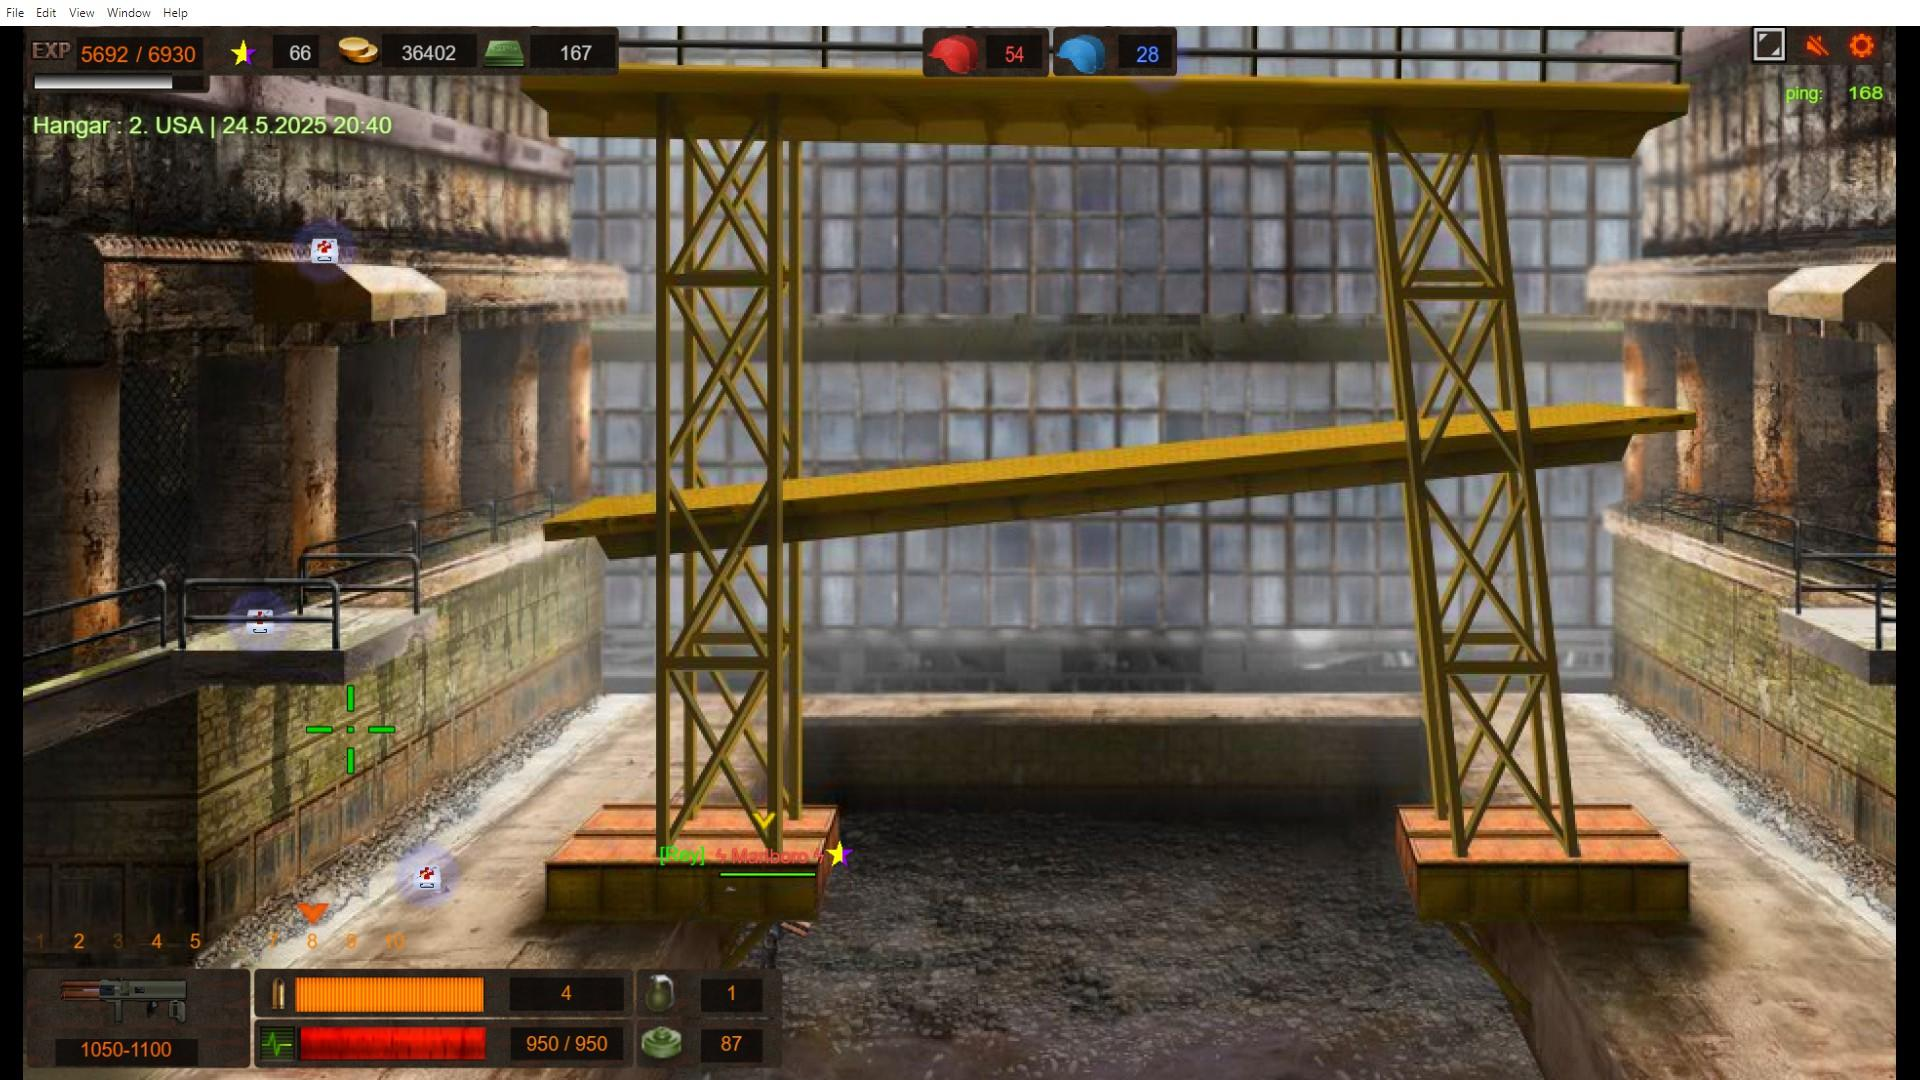enemy: (757, 898, 783, 981)
